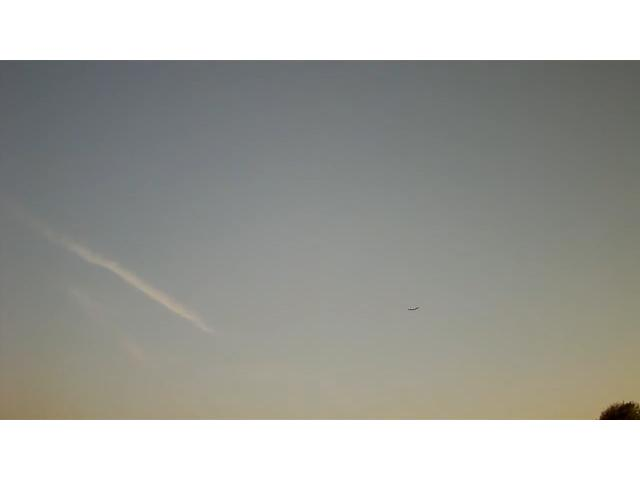Anti-Drone: (400, 304, 426, 314)
